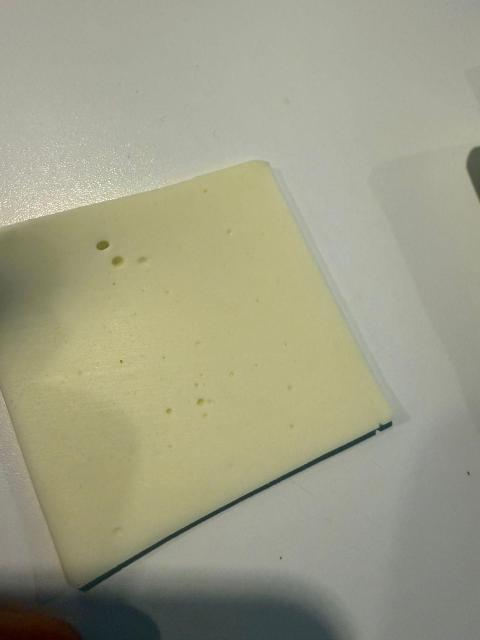Organik: (0, 155, 396, 592)
